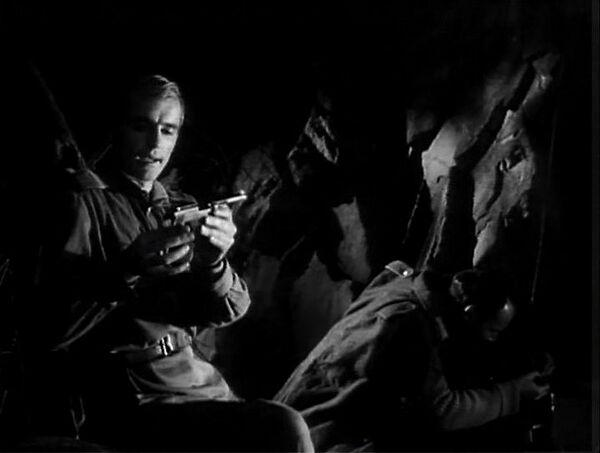Gun: (165, 189, 250, 229)
